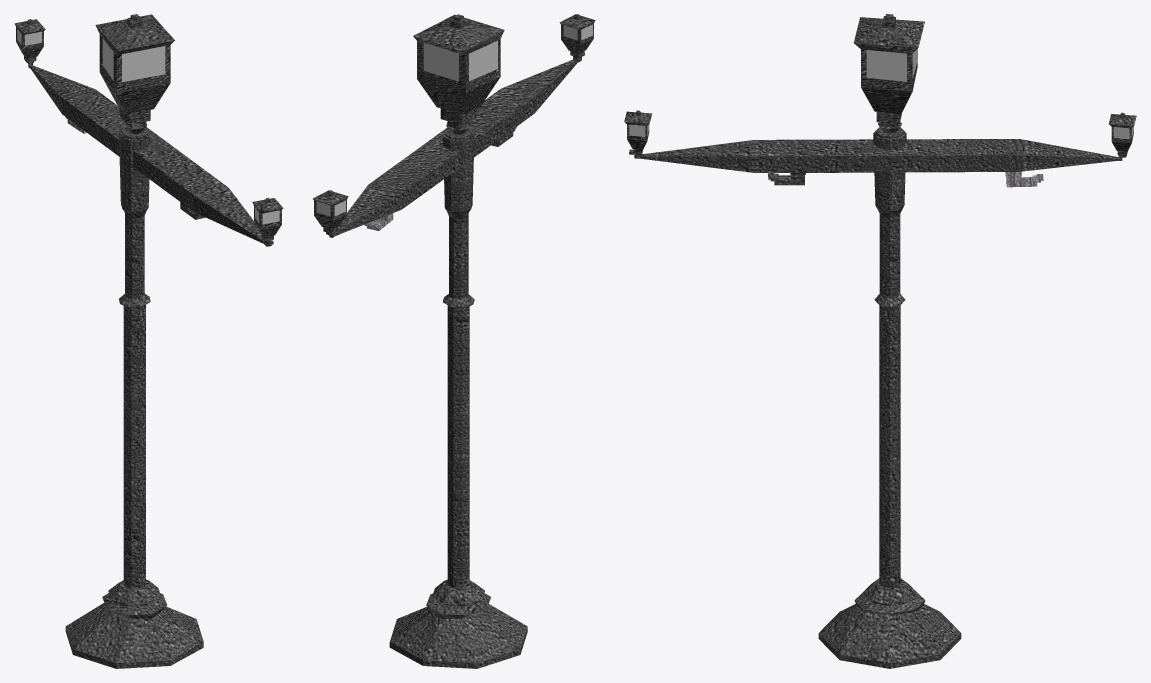
The model's file is BLOCKYGON_STREET LANTERN.fbx.
3 renders of one model, left to right at view 1: azimuth 30°, elevation 25°; view 2: azimuth 150°, elevation 25°; view 3: azimuth 270°, elevation 25°, orthographic.
Visible parts, largest first — view 1: BLOCKYGON_STREET_LANTERN; view 2: BLOCKYGON_STREET_LANTERN; view 3: BLOCKYGON_STREET_LANTERN.
Boxes of the visible parts, left/top/right/bottom form: BLOCKYGON_STREET_LANTERN: left=14, top=14, right=283, bottom=668; BLOCKYGON_STREET_LANTERN: left=313, top=14, right=595, bottom=668; BLOCKYGON_STREET_LANTERN: left=624, top=14, right=1136, bottom=668.
Size of the model in its own units: 53.05 by 256 by 191.
